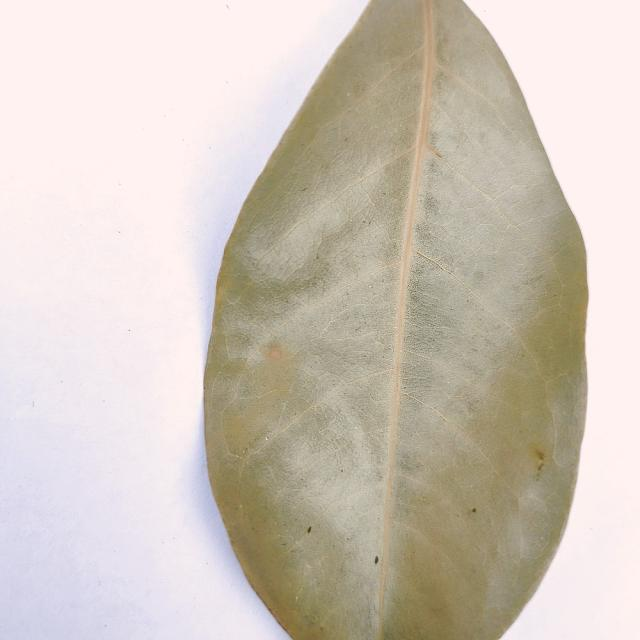Dry_Leaf-Lychee: (202, 0, 590, 639)
